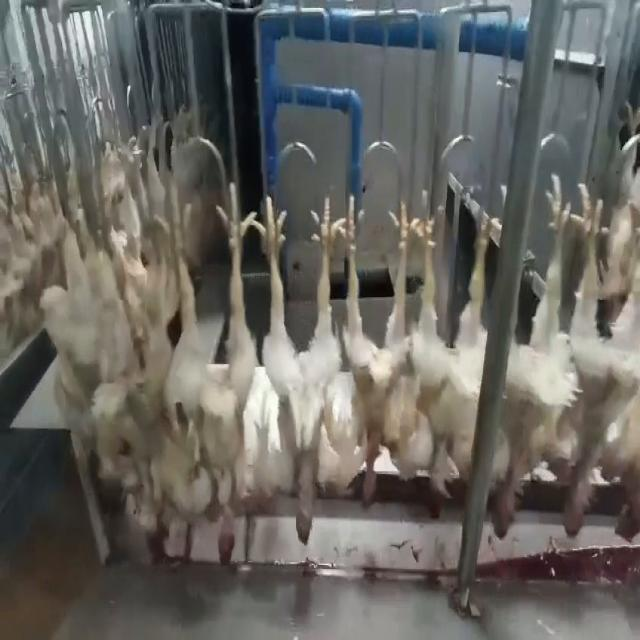chicken: (166, 184, 248, 576), (412, 184, 504, 524), (491, 170, 564, 541), (262, 189, 336, 544), (342, 193, 419, 517), (563, 182, 607, 542), (121, 174, 164, 542), (603, 182, 638, 547)
